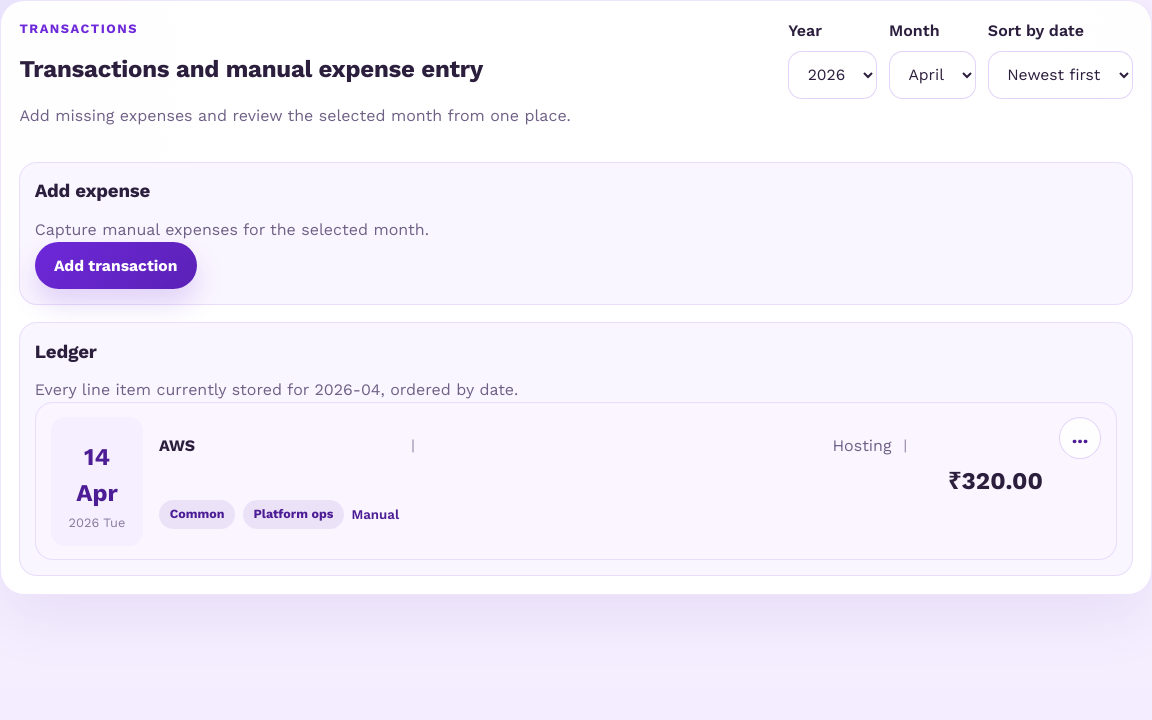
Test: transactions page confirms before deleting a transaction
expect the text "Transactions" is shown: met, box [19, 21, 138, 36]
expect the number of elements with test id "transaction-row" is 1: met, box [35, 402, 1117, 560]
Step 1. Click the button named "more actions for aws" → click(1080, 438), box [1059, 417, 1101, 459]
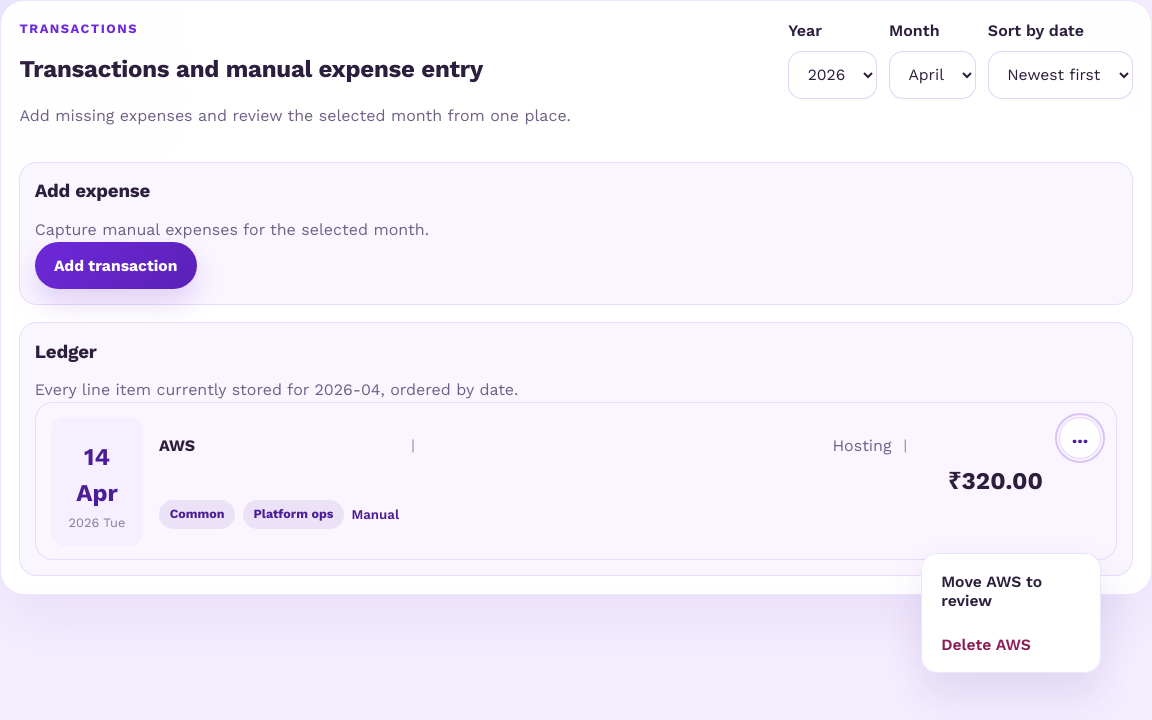
Step 2. Click the button "Delete AWS" → click(1011, 645), box [928, 624, 1094, 665]
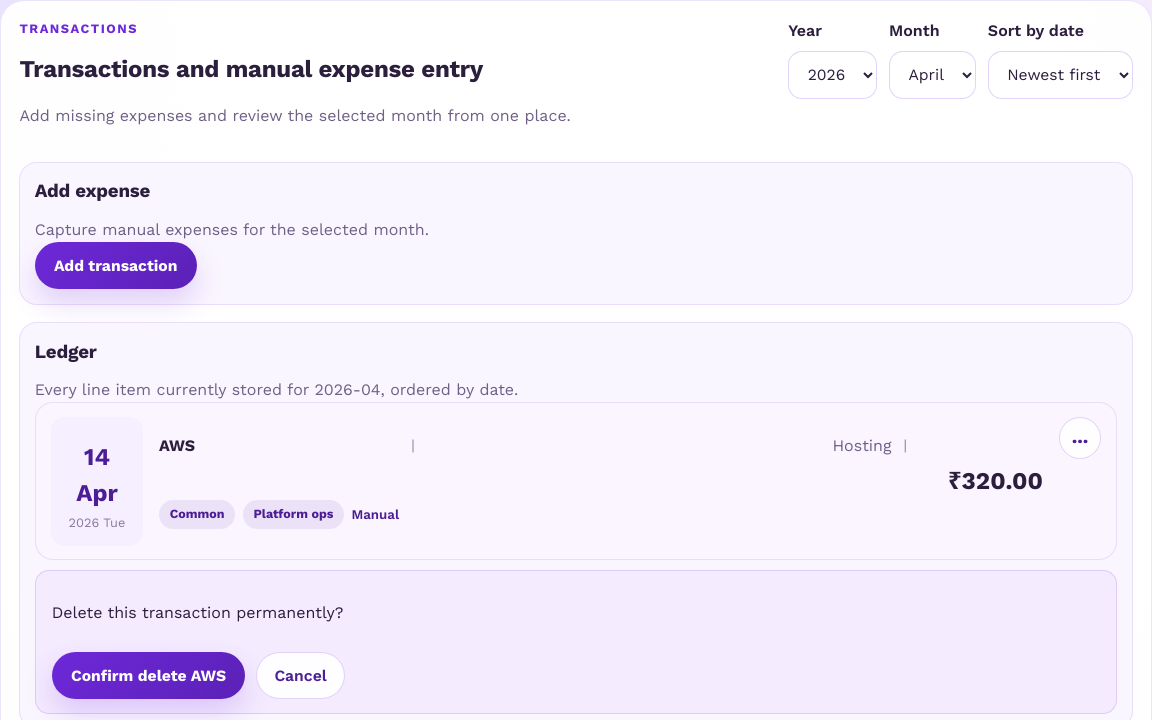
expect the text "Delete this transaction permanently?" is shown: met, box [52, 602, 344, 622]
Step 3. Click the button "Confirm delete AWS" → click(149, 675), box [52, 652, 245, 699]
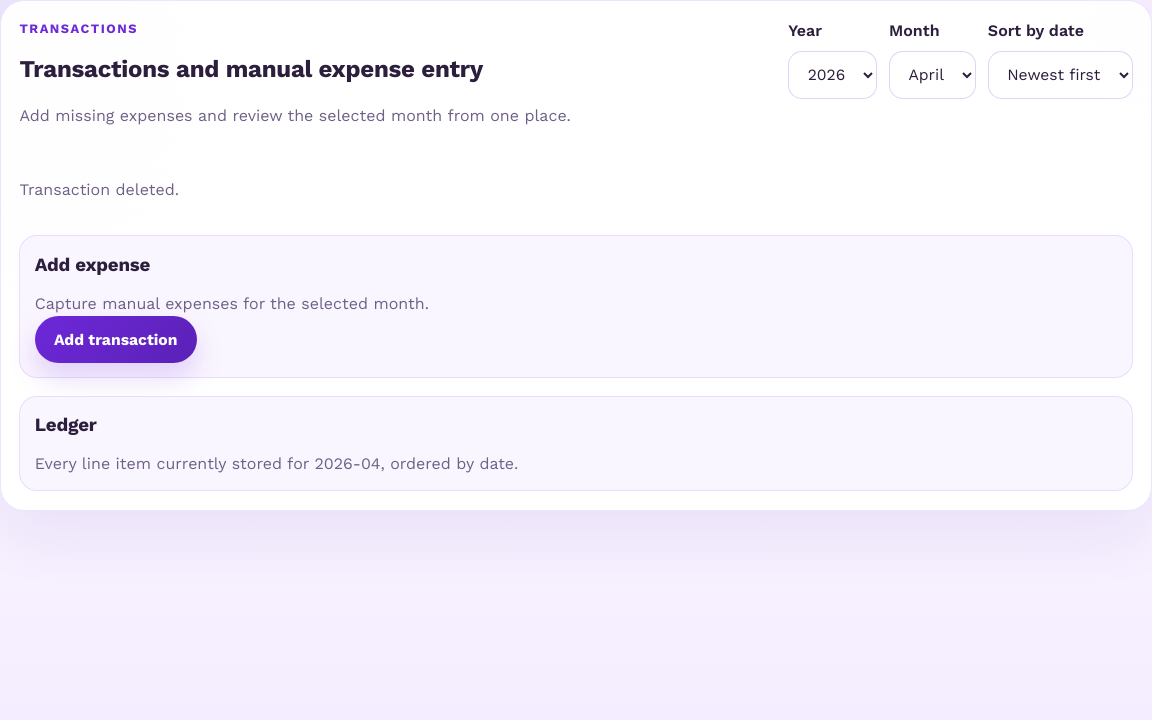
expect the text "AWS" is gone: met
